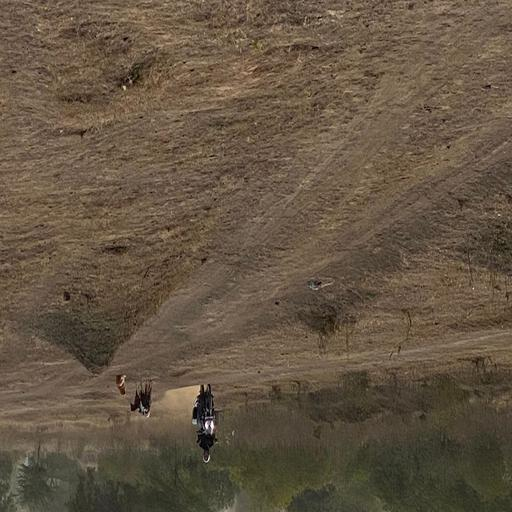vehicle_track: (112, 0, 512, 367)
